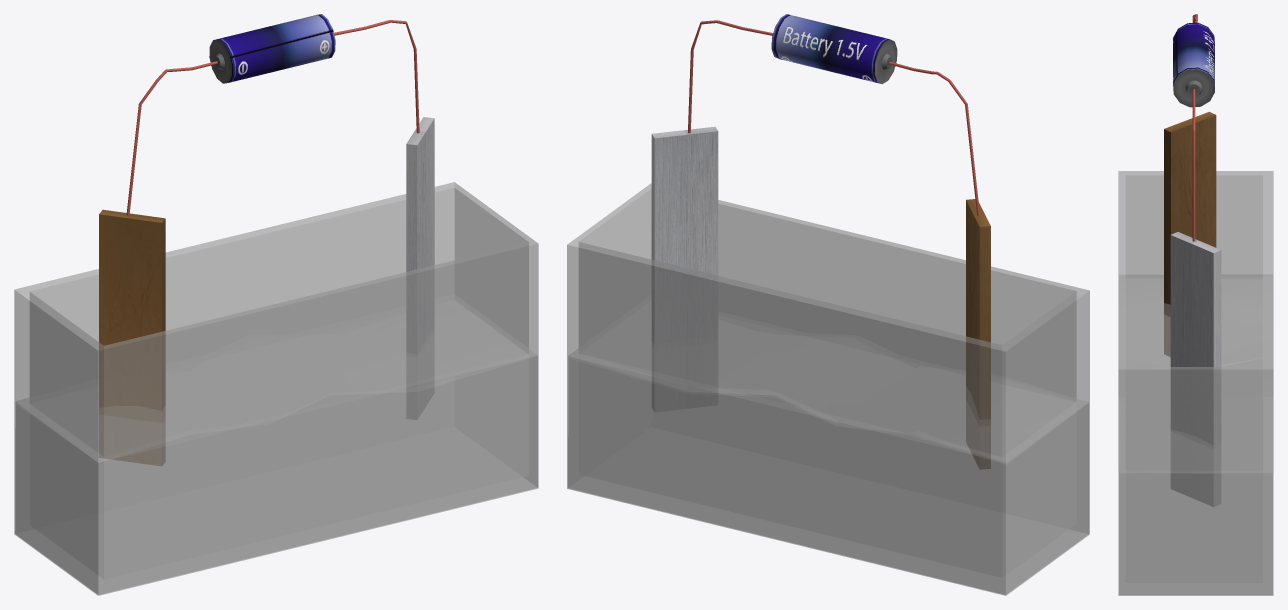
3 views of the same model, side by side, from view 1: azimuth 30°, elevation 25°; view 2: azimuth 150°, elevation 25°; view 3: azimuth 270°, elevation 25° (orthographic). The views are drawn at different scales.
Visible parts, largest first — view 1: polySurface1, polySurface2, copper1, zinc, battery5, wire; view 2: polySurface1, polySurface2, zinc, copper1, battery5, wire; view 3: polySurface1, polySurface2, zinc, copper1, battery5, wire.
Boxes of the visible parts, bbox=[...] form: polySurface1: bbox=[14, 182, 538, 595]; polySurface2: bbox=[15, 350, 537, 594]; copper1: bbox=[99, 209, 165, 465]; zinc: bbox=[406, 117, 434, 419]; battery5: bbox=[209, 14, 335, 83]; wire: bbox=[126, 20, 419, 215]; polySurface1: bbox=[567, 183, 1089, 595]; polySurface2: bbox=[568, 350, 1088, 594]; zinc: bbox=[651, 126, 718, 411]; copper1: bbox=[966, 199, 990, 469]; battery5: bbox=[771, 14, 897, 84]; wire: bbox=[688, 20, 979, 215]; polySurface1: bbox=[1118, 171, 1273, 595]; polySurface2: bbox=[1119, 275, 1272, 594]; zinc: bbox=[1170, 232, 1221, 506]; copper1: bbox=[1164, 111, 1216, 356]; battery5: bbox=[1173, 22, 1214, 107]; wire: bbox=[1192, 14, 1197, 241].
Bounding box in the file's own units: 188 × 198 × 62.22.
Materials: 5 (3 with a texture image).
